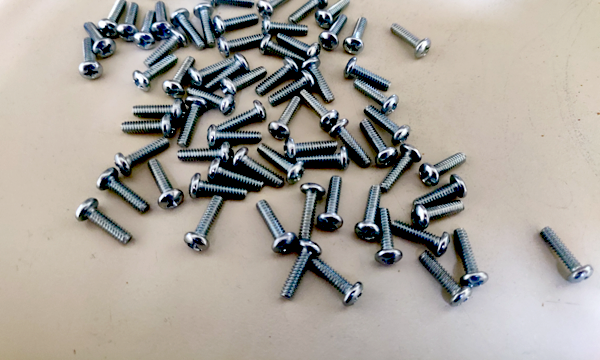shortscrew: (419, 251, 472, 307), (542, 227, 594, 284), (76, 198, 134, 246), (280, 239, 323, 302), (309, 257, 363, 306), (96, 167, 150, 215), (184, 196, 225, 253), (114, 137, 170, 176), (256, 200, 297, 253), (380, 144, 423, 194), (329, 118, 372, 168), (392, 221, 450, 258), (454, 228, 489, 289), (232, 147, 284, 188), (148, 159, 186, 211), (363, 105, 411, 146), (360, 119, 398, 169), (255, 56, 301, 97), (208, 158, 264, 191), (352, 77, 400, 115), (268, 69, 317, 106), (133, 53, 179, 92), (413, 175, 467, 208), (143, 28, 187, 68), (203, 53, 249, 91), (214, 100, 266, 133), (343, 57, 392, 92), (299, 89, 339, 131), (419, 153, 468, 187), (177, 96, 209, 148), (412, 200, 467, 230), (170, 8, 207, 52), (188, 56, 238, 88), (302, 57, 336, 104), (189, 173, 248, 200), (355, 185, 383, 241), (376, 208, 403, 266), (299, 183, 326, 241), (268, 95, 302, 141), (162, 55, 196, 98), (220, 66, 268, 96), (317, 176, 343, 231), (391, 25, 431, 60), (186, 87, 236, 115), (177, 141, 233, 165), (260, 34, 307, 62), (121, 114, 176, 137), (83, 21, 117, 58), (207, 125, 264, 147), (276, 33, 321, 60), (98, 0, 128, 39), (217, 34, 263, 59), (212, 13, 259, 36), (319, 15, 348, 52), (288, 0, 329, 26), (79, 37, 103, 81), (193, 4, 217, 48), (316, 0, 350, 30), (343, 16, 368, 56), (134, 8, 156, 51), (117, 2, 140, 41), (151, 1, 173, 39), (257, 0, 295, 19), (209, 0, 256, 9)
